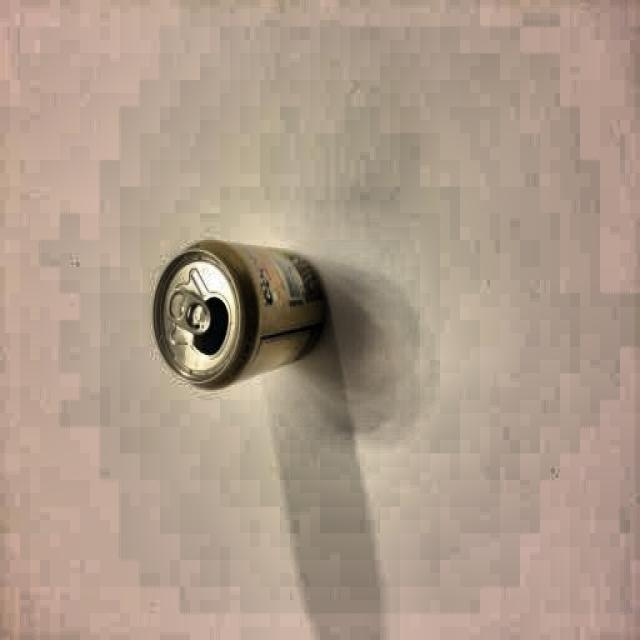metal: (152, 240, 321, 396)
